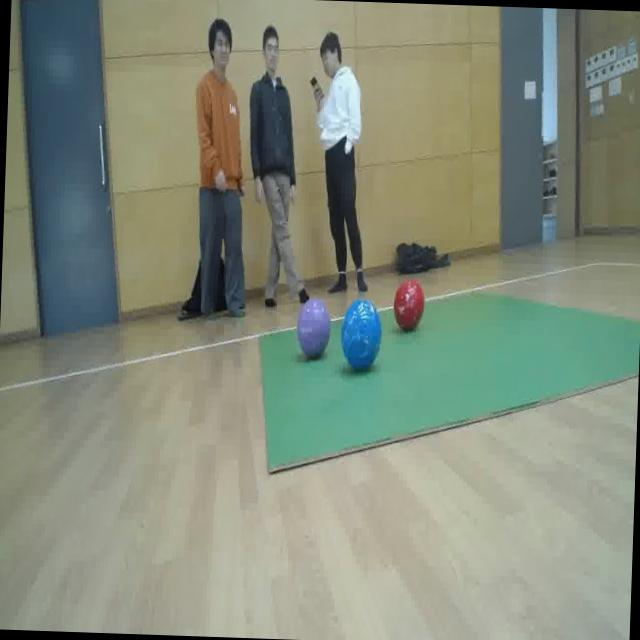blue_ball: (344, 298, 379, 367)
purple_ball: (296, 298, 331, 356)
red_ball: (394, 276, 426, 326)
